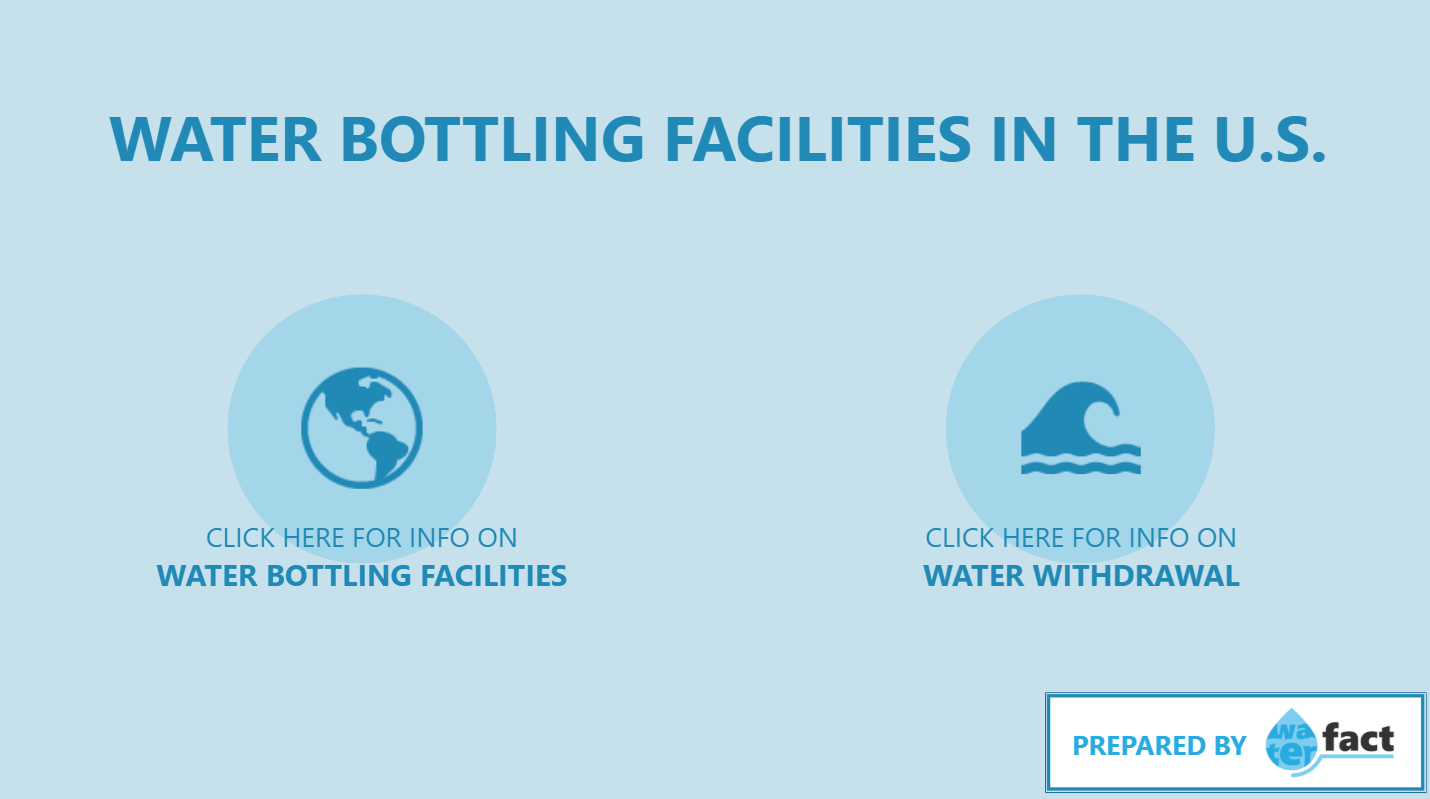

The page's visual inventory and layout, read from the dashboard file:
{"tool":"powerbi","page":{"name":"Front Cover","canvas":[1280,720],"ordinal":0},"visuals":[{"type":"textbox","box":[28,84,1226,88],"z":0},{"type":"shape","box":[204,268,240,240],"z":1000},{"type":"image","box":[204,328.5,240,118],"z":2000},{"type":"shape","box":[844,268,240,240],"z":3000},{"type":"image","box":[876,341.5,176,92],"z":4000},{"type":"textbox","box":[110,462,428,82],"z":5000},{"type":"textbox","box":[750,462,428,82],"z":6000},{"type":"shape","box":[932,622,340,90],"z":6500},{"type":"image","box":[1102,632,168,72],"z":7000},{"type":"textbox","box":[928.3,646.7,210,45],"z":9000}]}

Visuals, with their boxes in screenshot pixels (x1, y1, x2, y2), scaled from the page's 1280x720 canvas onto the 1430x799 screenshot:
textbox: [31,93,1401,191]
shape: [228,297,496,564]
image: [228,365,496,495]
shape: [943,297,1211,564]
image: [979,379,1175,481]
textbox: [123,513,601,604]
textbox: [838,513,1316,604]
shape: [1041,690,1421,790]
image: [1231,701,1419,781]
textbox: [1037,718,1272,768]
